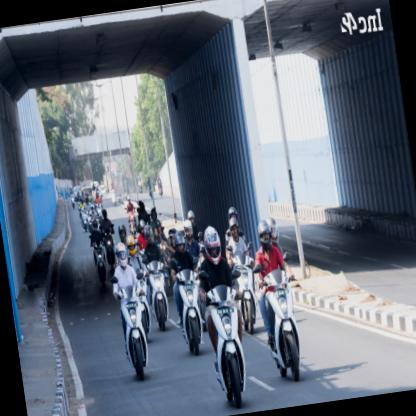motorcycle: (188, 222, 258, 412), (244, 216, 309, 380), (107, 240, 155, 381), (164, 230, 208, 359), (222, 204, 264, 333), (140, 223, 174, 331), (87, 218, 108, 286)
